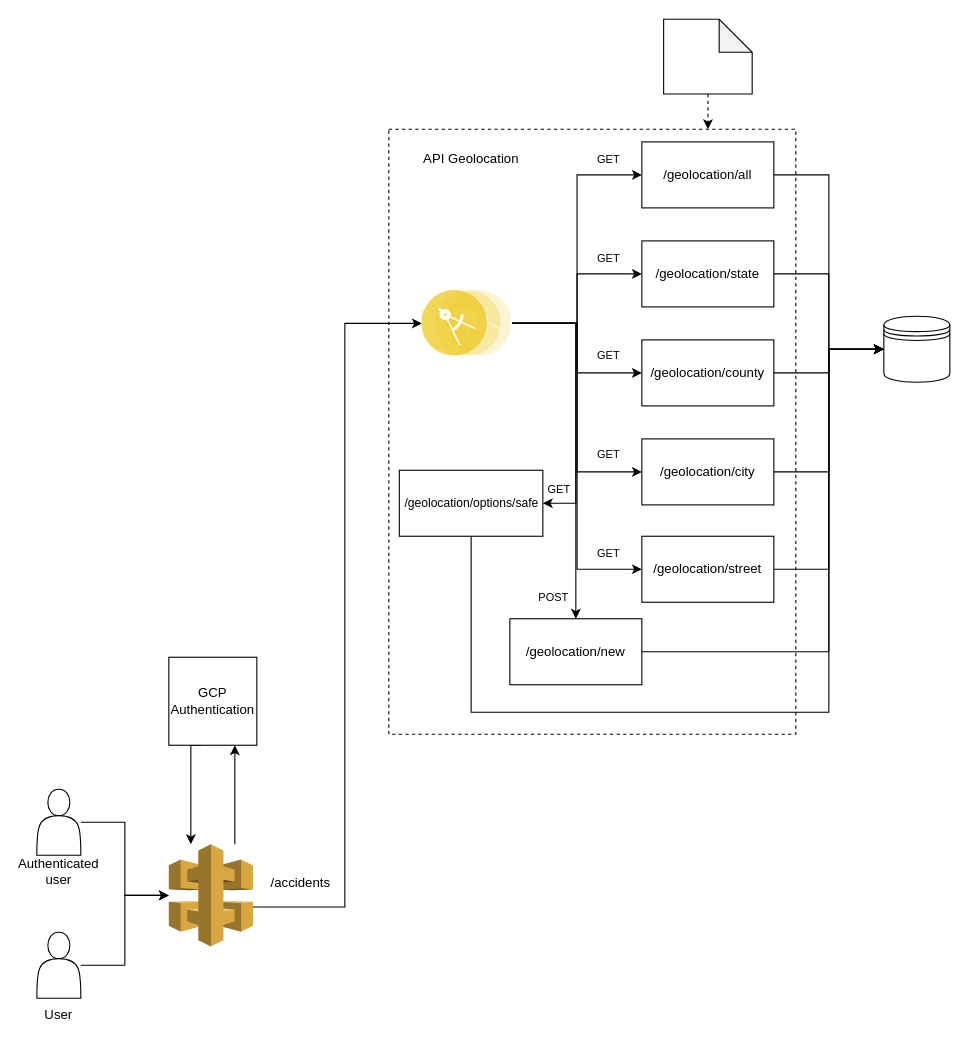
This 969x1051 diagram has some shape labels left out. Here are the shapes that lost their labels. From the top down, the box of each, then its label:
(663, 18, 752, 94): REST API using HTTP protocol
(421, 290, 512, 356): Represents the API
(883, 315, 950, 382): MongoDB
(168, 843, 253, 947): API GATEWAY
